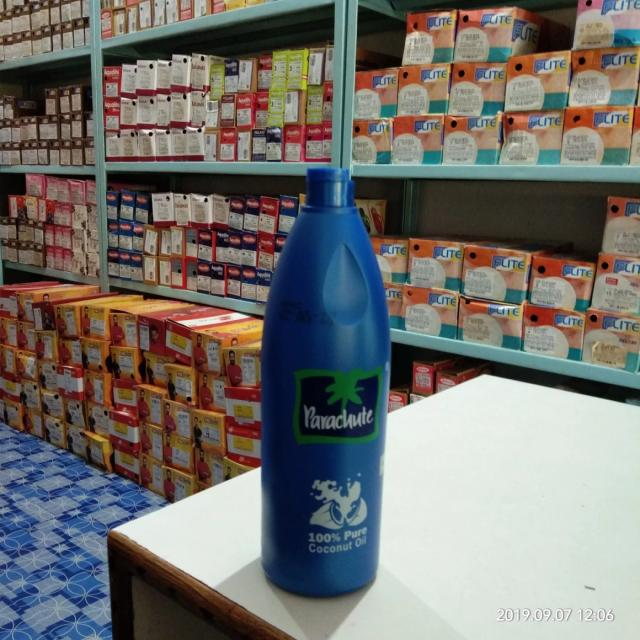parachute_oil: (246, 156, 397, 603)
